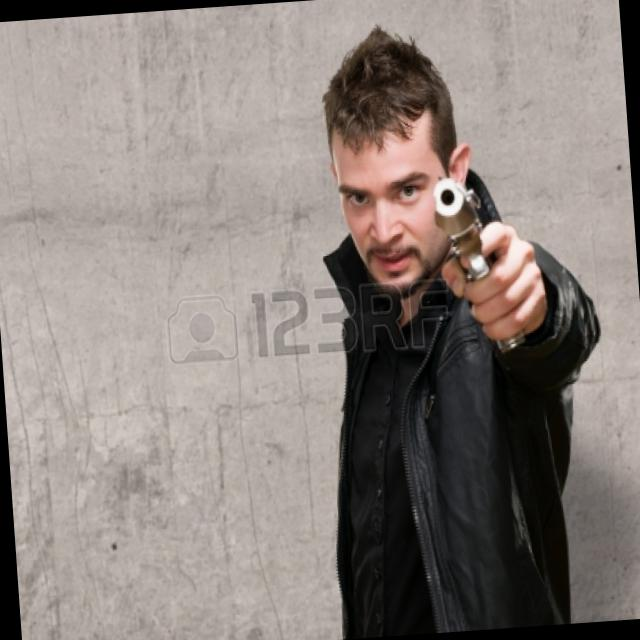handgun: (432, 162, 530, 356)
